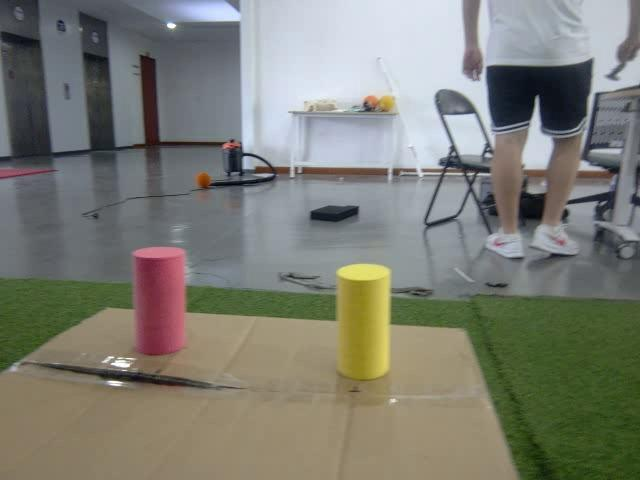red_cylinder: (127, 246, 189, 360)
yellow_cylinder: (333, 262, 392, 379)
